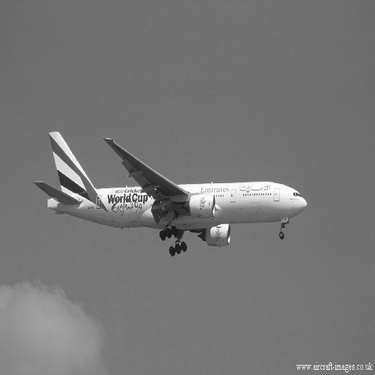airplane: (15, 124, 318, 265)
